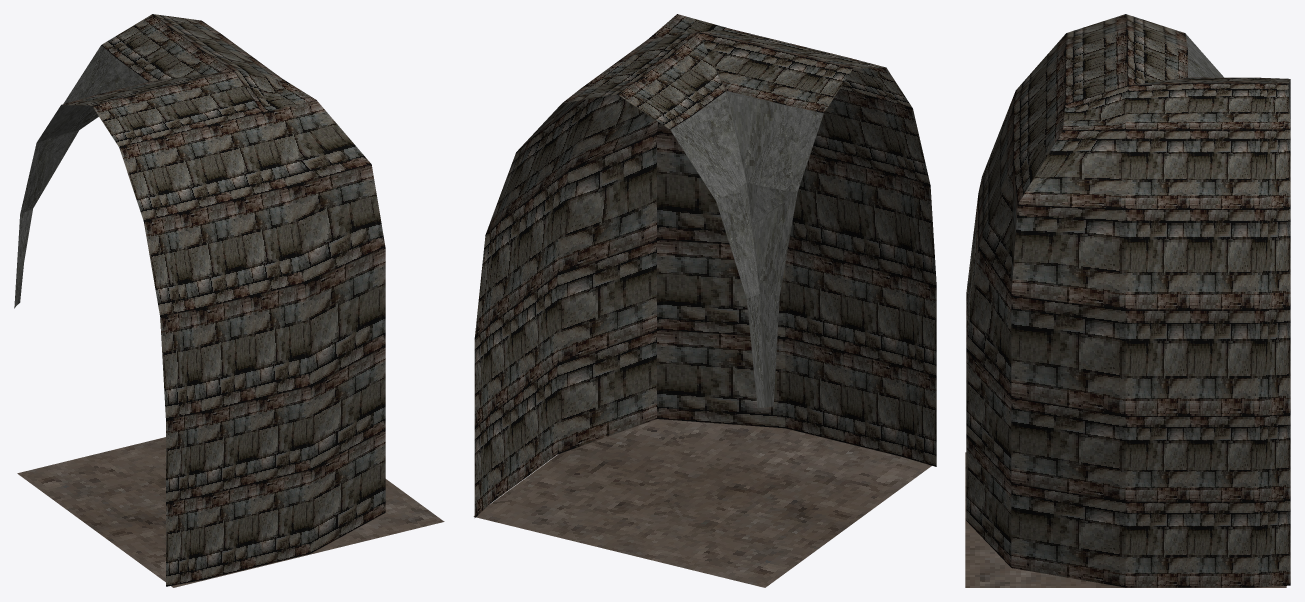
The model's file is dungeon_turn_short_model.gltf.
3 views of the same model, side by side, from view 1: azimuth 30°, elevation 25°; view 2: azimuth 150°, elevation 25°; view 3: azimuth 270°, elevation 25° (orthographic). The views are drawn at different scales.
Parts seen in each view (by area): view 1: Cube.001; view 2: Cube.001; view 3: Cube.001.
Boxes of the visible parts, x1,y1,x2,y2 form: Cube.001: (14, 14, 444, 587); Cube.001: (473, 14, 936, 587); Cube.001: (965, 14, 1290, 587).
Bounding box in the file's own units: 2.04 × 3 × 2.03.
3 materials, 3 textured.
